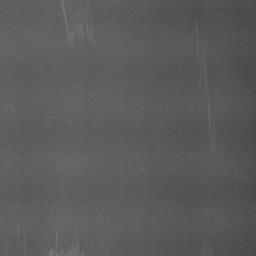Silk spot: (79, 240, 89, 253)
